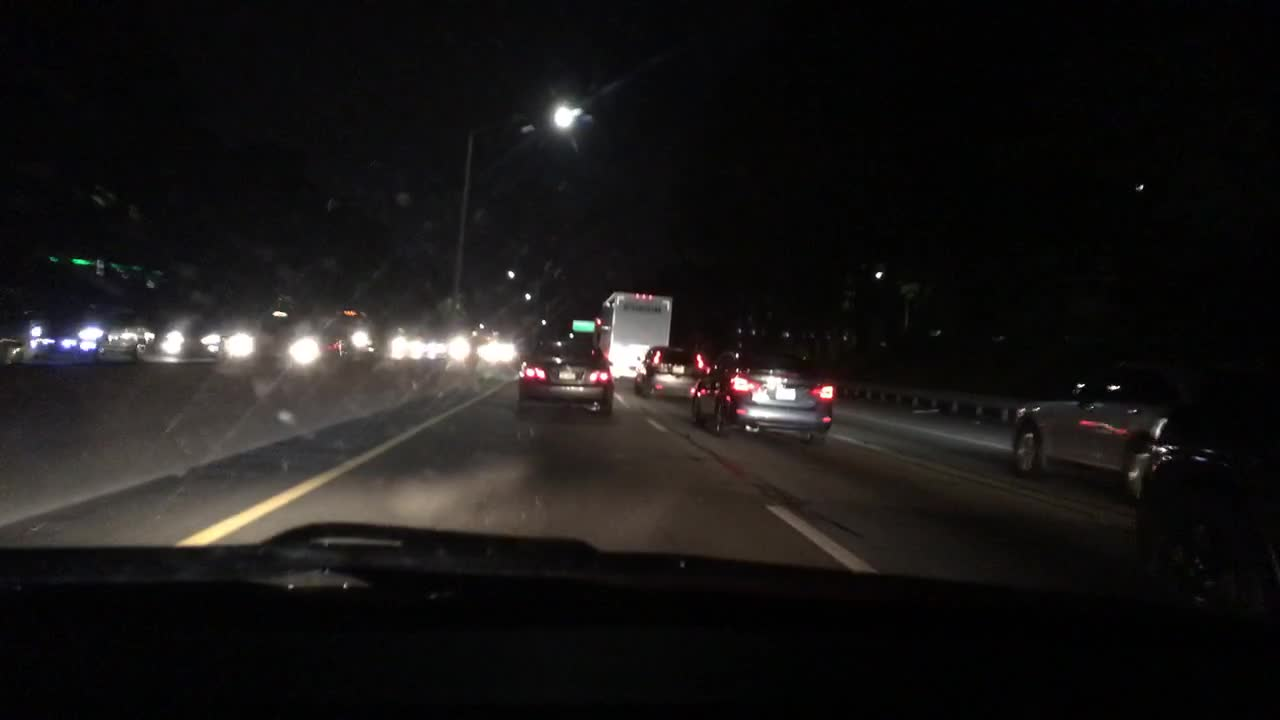car: (1136, 364, 1278, 623), (1010, 361, 1207, 502), (685, 342, 833, 451), (515, 337, 617, 419), (21, 302, 156, 361), (226, 310, 329, 364), (631, 342, 706, 397), (160, 307, 232, 363), (325, 307, 382, 363), (449, 330, 499, 361), (387, 328, 424, 360), (428, 332, 458, 355), (495, 338, 521, 359)
traffic sign: (572, 317, 593, 333)
truck: (593, 287, 675, 379)
